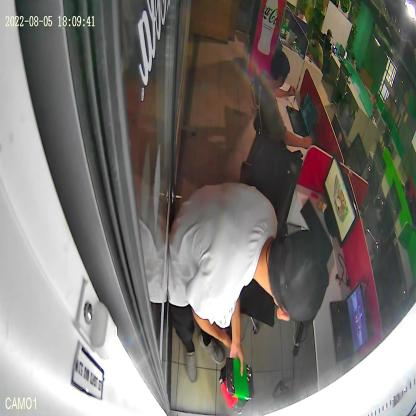green: (226, 357, 254, 401)
red: (219, 365, 247, 415)
